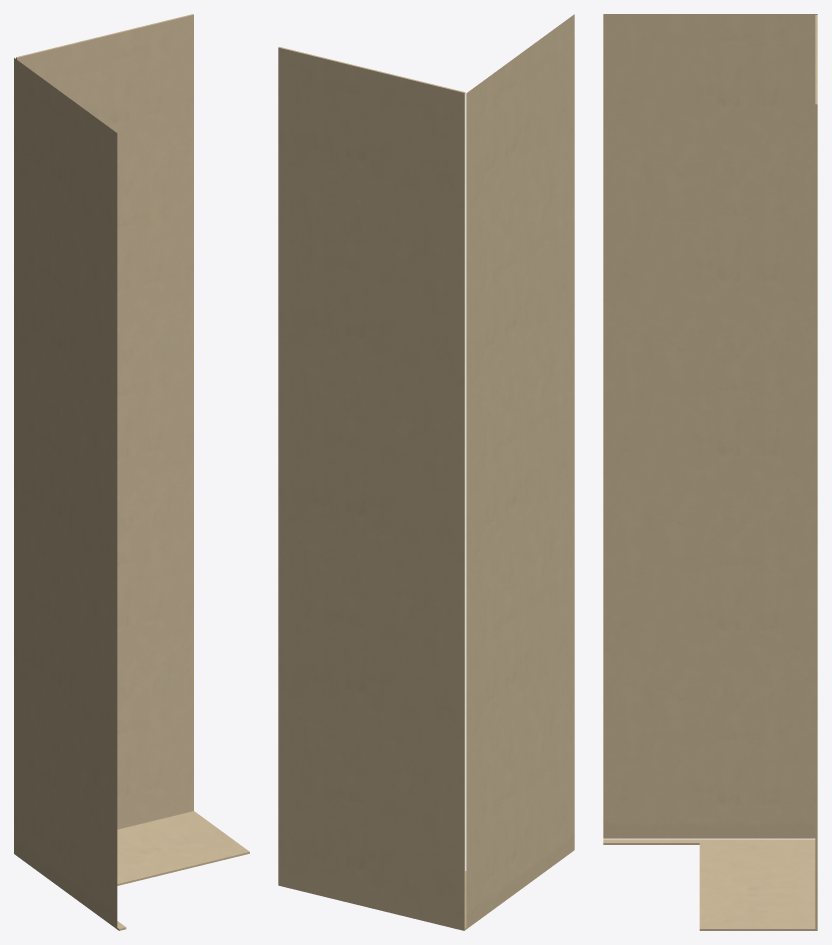
Rendered from rug-receivers-tea-terrace.glb.
3 renders of one model, left to right at view 1: azimuth 30°, elevation 25°; view 2: azimuth 150°, elevation 25°; view 3: azimuth 270°, elevation 25°, orthographic. The views are drawn at different scales.
Visible parts, largest first — view 1: bz06_cream_plaster-cast; view 2: bz06_cream_plaster-cast; view 3: bz06_cream_plaster-cast.
Boxes of the visible parts, x1,y1,x2,y2 form: bz06_cream_plaster-cast: (14,14,249,930); bz06_cream_plaster-cast: (278,14,574,930); bz06_cream_plaster-cast: (603,14,817,930).
Size of the model in its own units: 2 by 8.52 by 2.
Materials: 1 (1 with a texture image).
